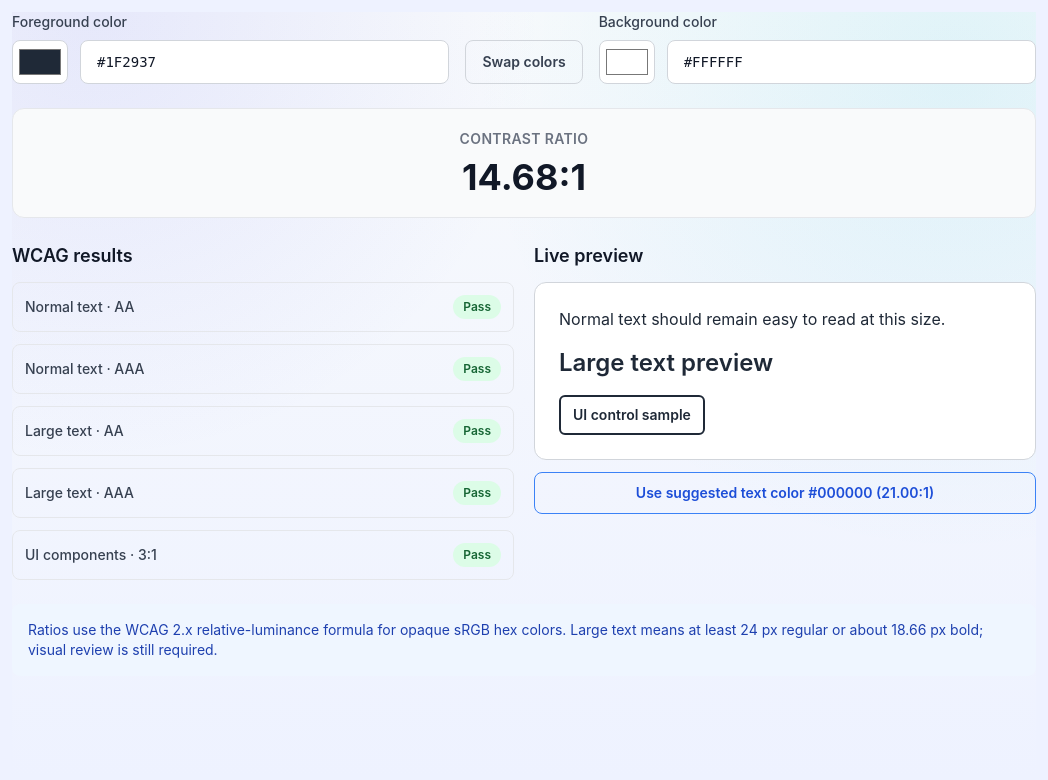
Scenario: ColorContrastCheckerTool › calculates WCAG results and updates after a color change
Replace the text in the field labelled "Foreground color" with "#000000": (265, 62) x1=80 y1=40 x2=449 y2=84
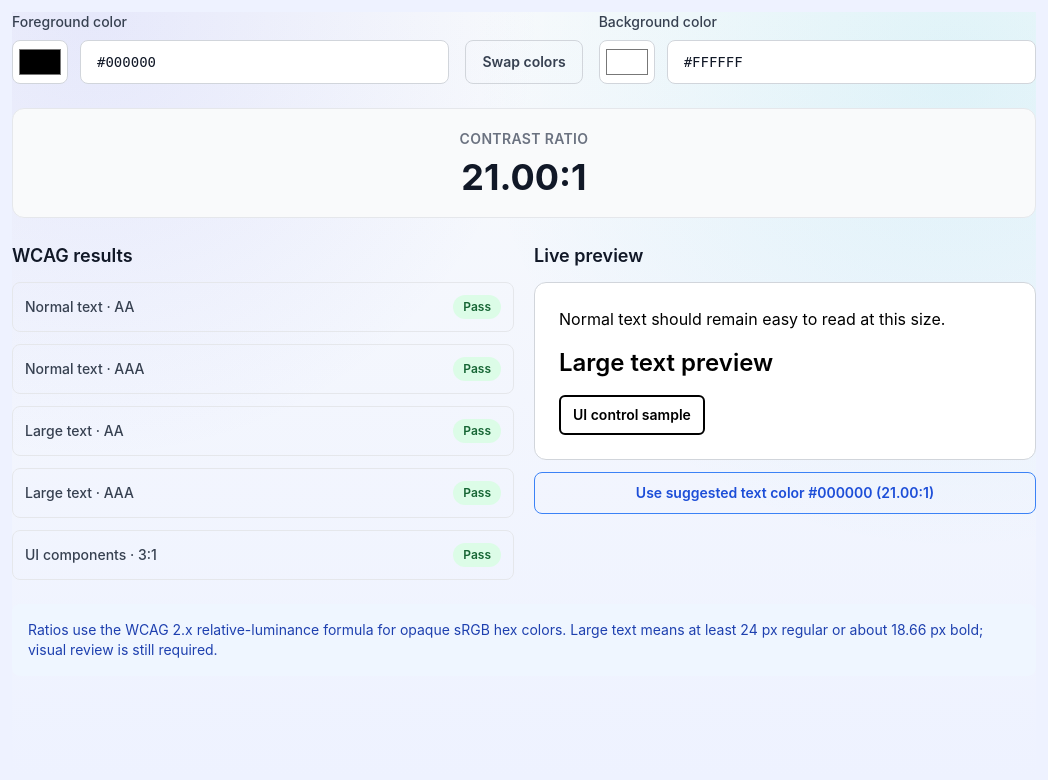
Expected: the text "21.00:1" is shown, x1=461 y1=155 x2=587 y2=199
Replace the text in the field labelled "Foreground color" with "#777777": (265, 62) x1=80 y1=40 x2=449 y2=84
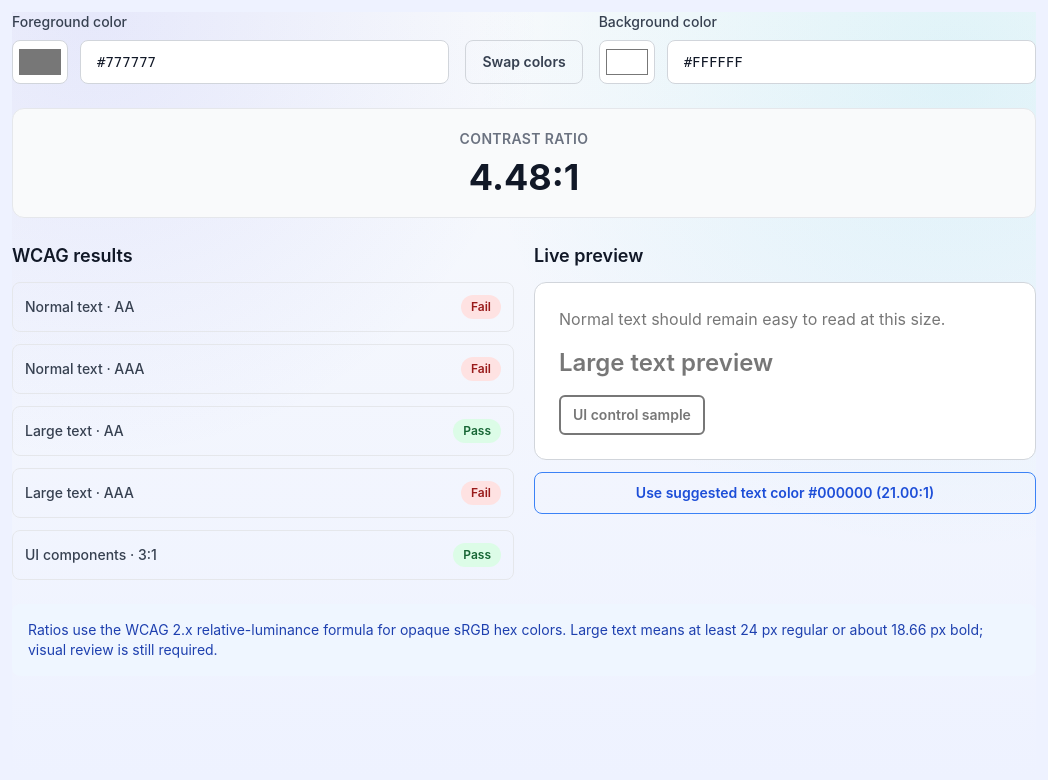
Expected: the text "4.48:1" is shown, x1=469 y1=155 x2=579 y2=199
